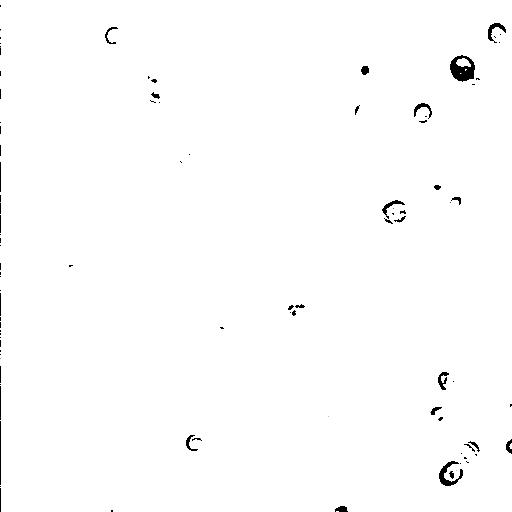micro-algae: (431, 431, 511, 511), (397, 19, 476, 99), (440, 16, 511, 89), (1, 209, 71, 283), (141, 0, 210, 37), (321, 207, 372, 255), (1, 48, 40, 93), (70, 249, 111, 289), (370, 13, 406, 52), (106, 152, 143, 189), (349, 53, 381, 89), (115, 336, 146, 367), (281, 301, 315, 329), (21, 0, 69, 19), (1, 488, 40, 511), (379, 197, 410, 225), (171, 143, 198, 172), (449, 53, 475, 83), (454, 76, 485, 101), (0, 130, 23, 163), (438, 460, 465, 487), (139, 63, 167, 89), (423, 173, 449, 197), (486, 19, 509, 44), (411, 101, 433, 125), (457, 441, 481, 463), (187, 393, 214, 412), (59, 256, 80, 280), (92, 497, 126, 511), (499, 396, 512, 427), (437, 371, 455, 393), (103, 25, 122, 44), (352, 101, 370, 119), (185, 435, 205, 451), (446, 194, 463, 211), (429, 404, 443, 423), (331, 503, 352, 511), (504, 435, 511, 453)
